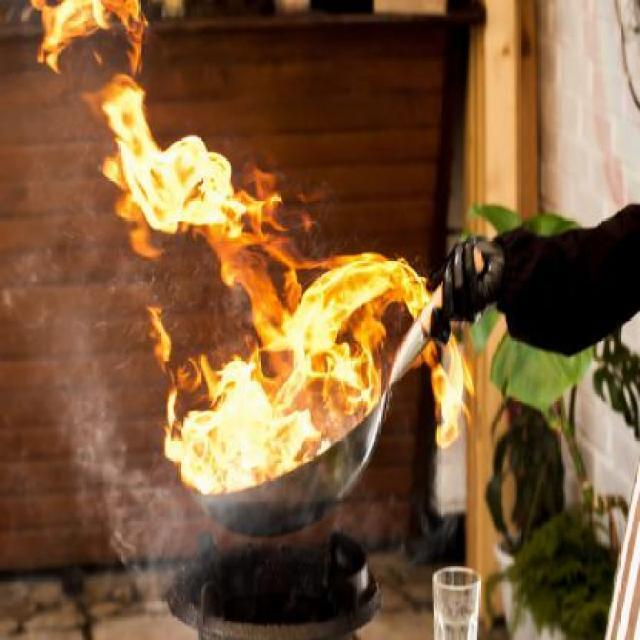Fire: (31, 0, 423, 485)
